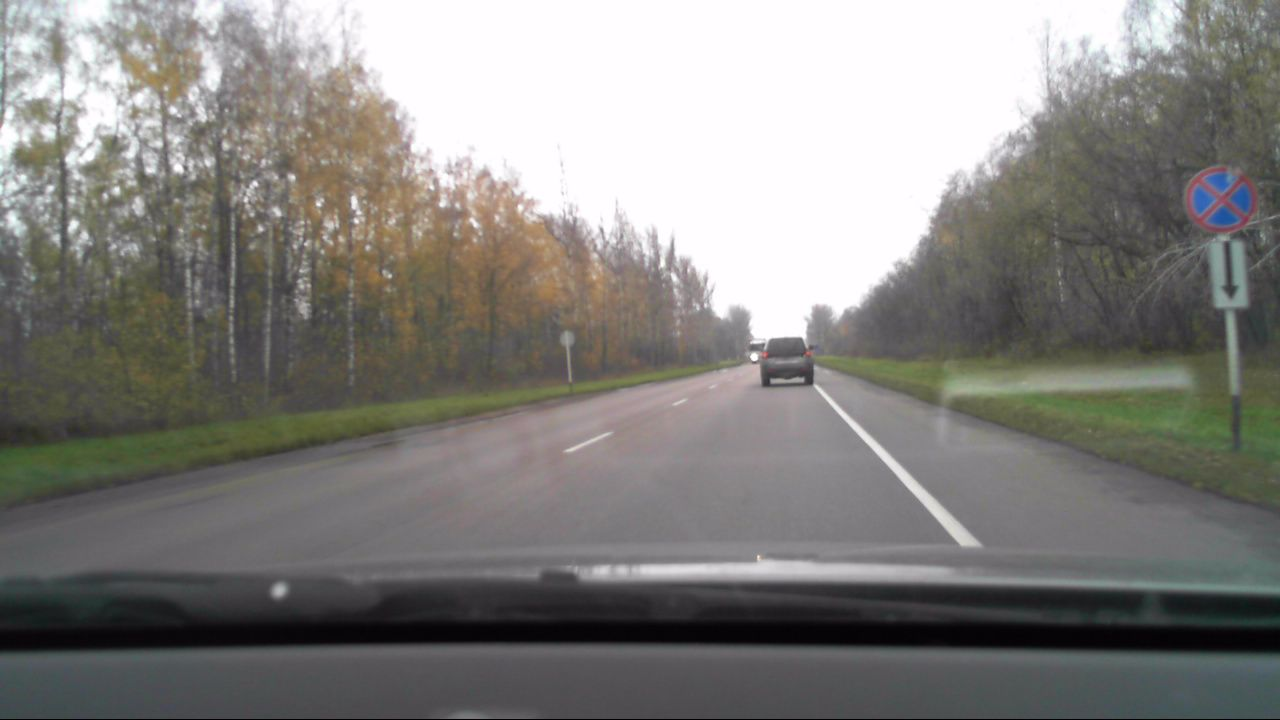No Parking: (1181, 162, 1255, 235)
